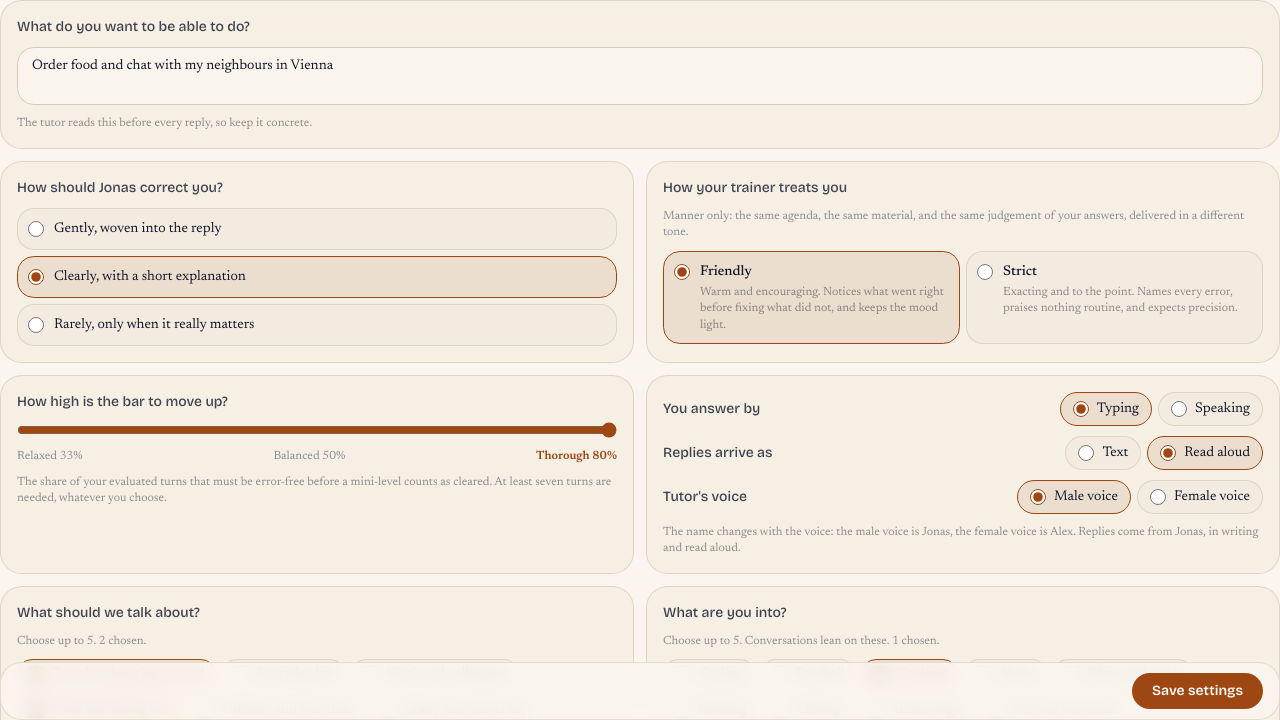
the voice › renames the tutor as soon as the other voice is picked, before saving
Expected: the text "How should Jonas correct you?" is shown, [17,178,223,196]
Click the radio button labelled "Female voice".
click(1158, 496)  # box [1150,488,1166,504]
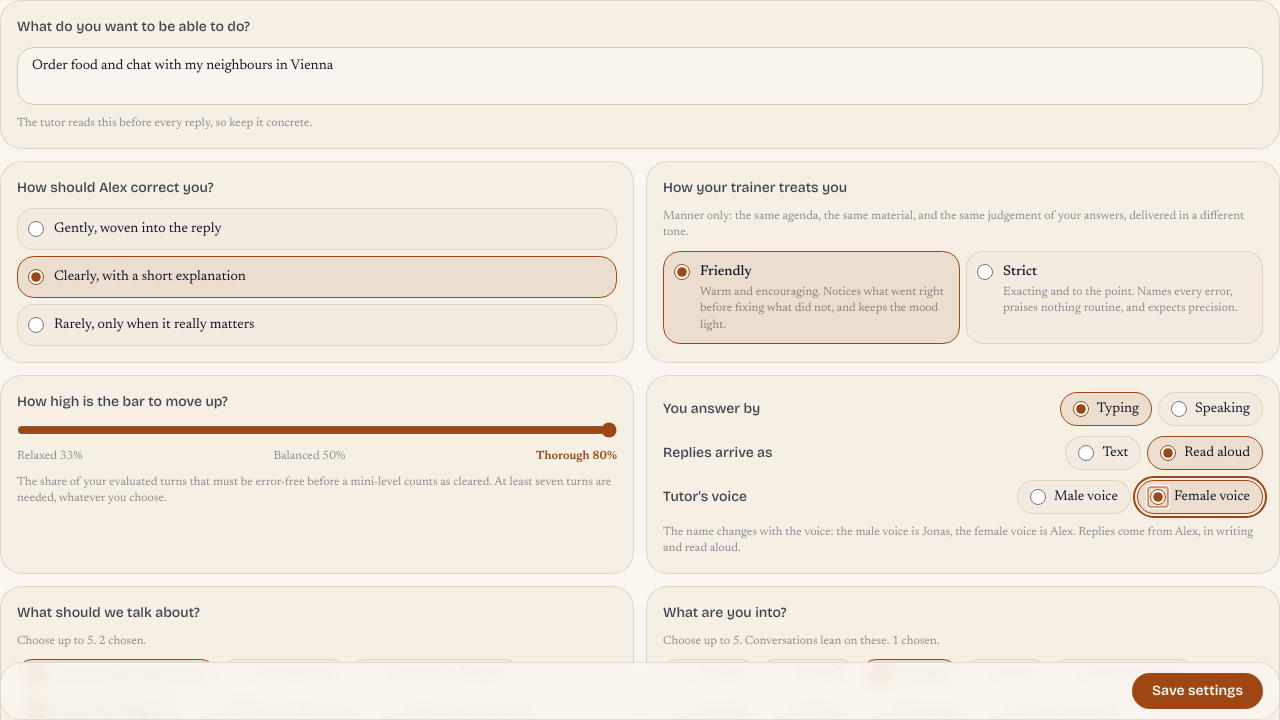
Expected: the text "How should Alex correct you?" is shown, [17,178,214,196]
